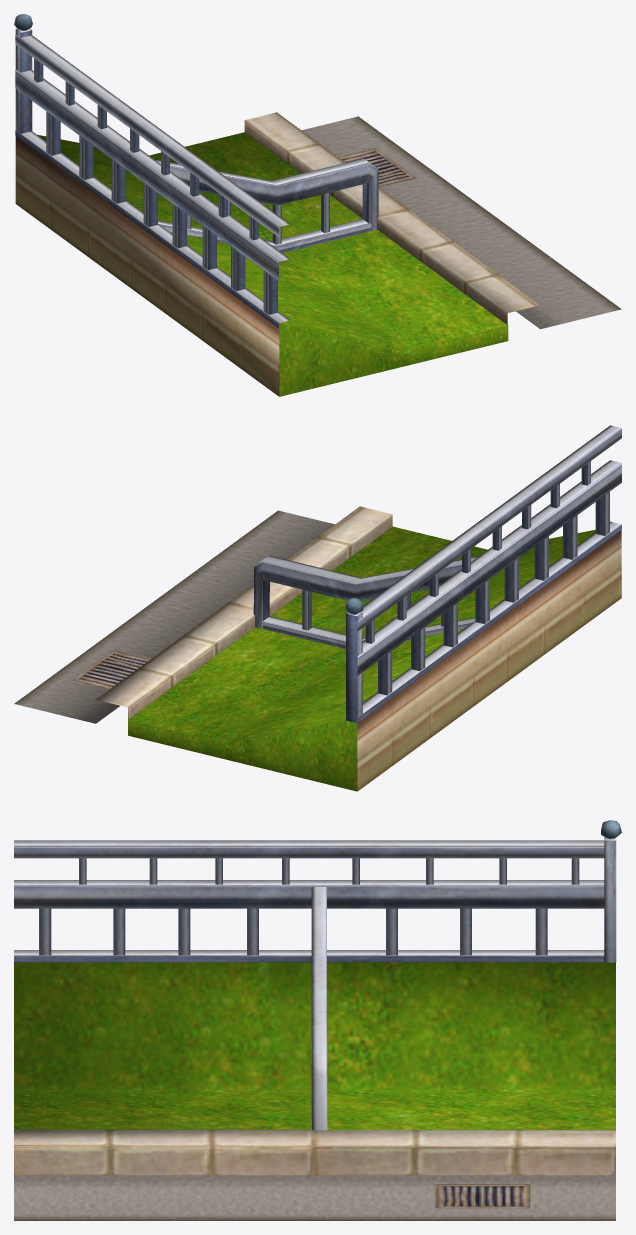
Rendered from a_SElawn03.glb.
3 views of the same model, one above another, from view 1: azimuth 30°, elevation 25°; view 2: azimuth 150°, elevation 25°; view 3: azimuth 270°, elevation 25° (orthographic). The views are drawn at different scales.
Parts seen in each view (by area): view 1: a_SElawn03; view 2: a_SElawn03; view 3: a_SElawn03.
Part boxes in pixels (bbox=[...]): a_SElawn03: bbox=[14, 14, 621, 396]; a_SElawn03: bbox=[14, 425, 621, 791]; a_SElawn03: bbox=[14, 820, 621, 1220].
Size of the model in its own units: 2.27 by 1.19 by 3.03.
1 material, 1 textured.
